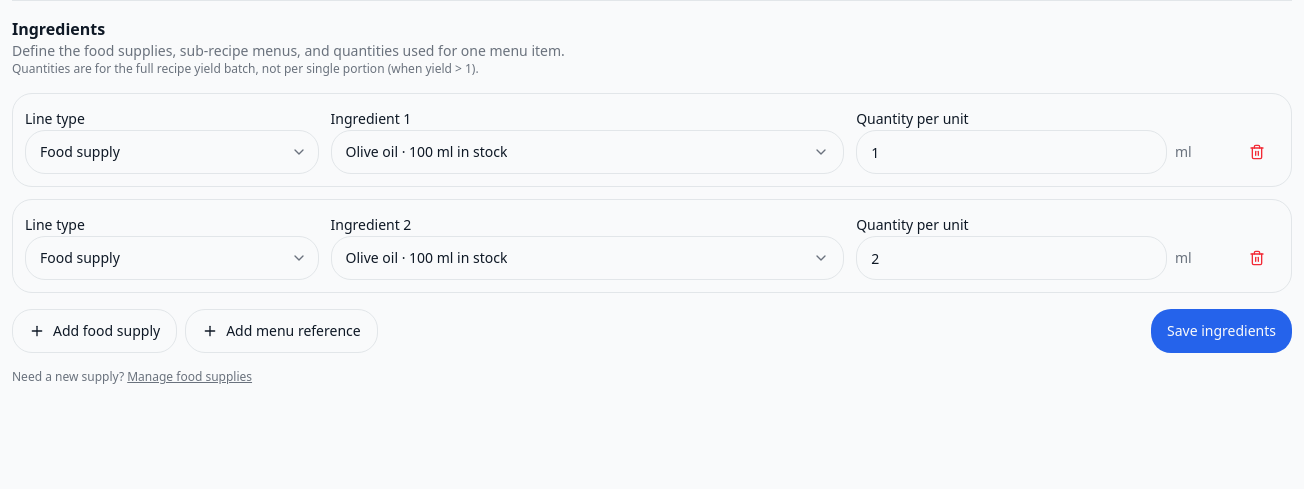
Test: MenuIngredientsForm › blocks duplicate food supplies before submit
expect the button named "Ingredient 1" is shown: met, box [330,130,844,174]
Click the button "Save ingredients".
click(1222, 331)  # box [1151,309,1292,353]
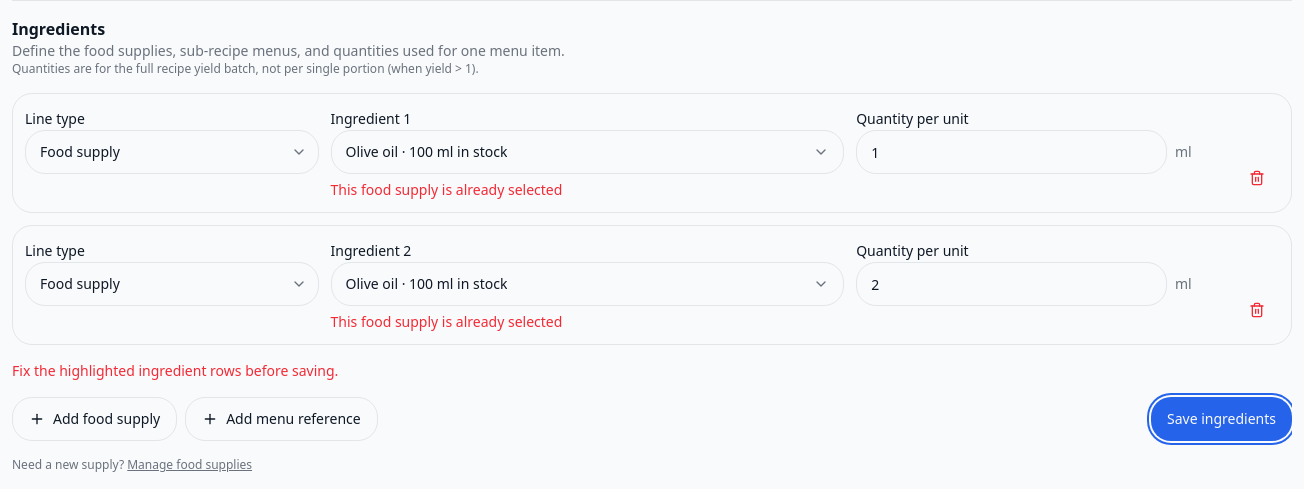
expect the text "This food supply is already selected" is shown 2 times: met, box [330,180,562,199]; [330,312,562,331]
